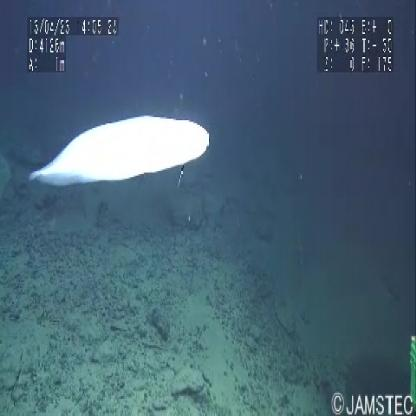Bio: (27, 110, 216, 190)
